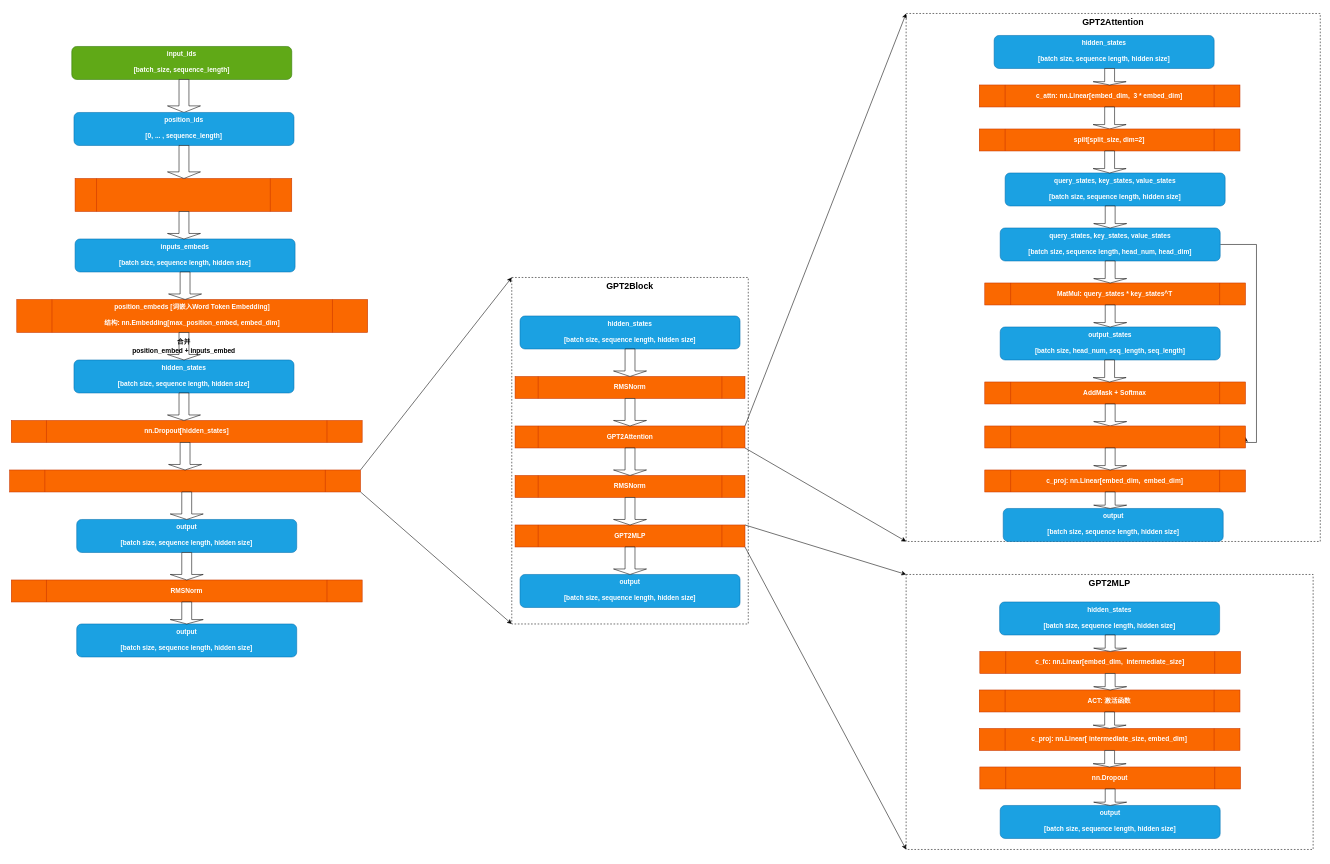
Image size: 1330x864. Some labels were removed from this diagram. Here are the shapes that lost their labels. From the top down, the centre of each, then its label:
At pixel 183 194: "inputs_embeds [词嵌入Word Token Embedding] 结构: nn.Embedding[vocab_size, embed_dim]".
At pixel 1114 436: "MatMul".
At pixel 185 480: "GPT2Block [一层]".
